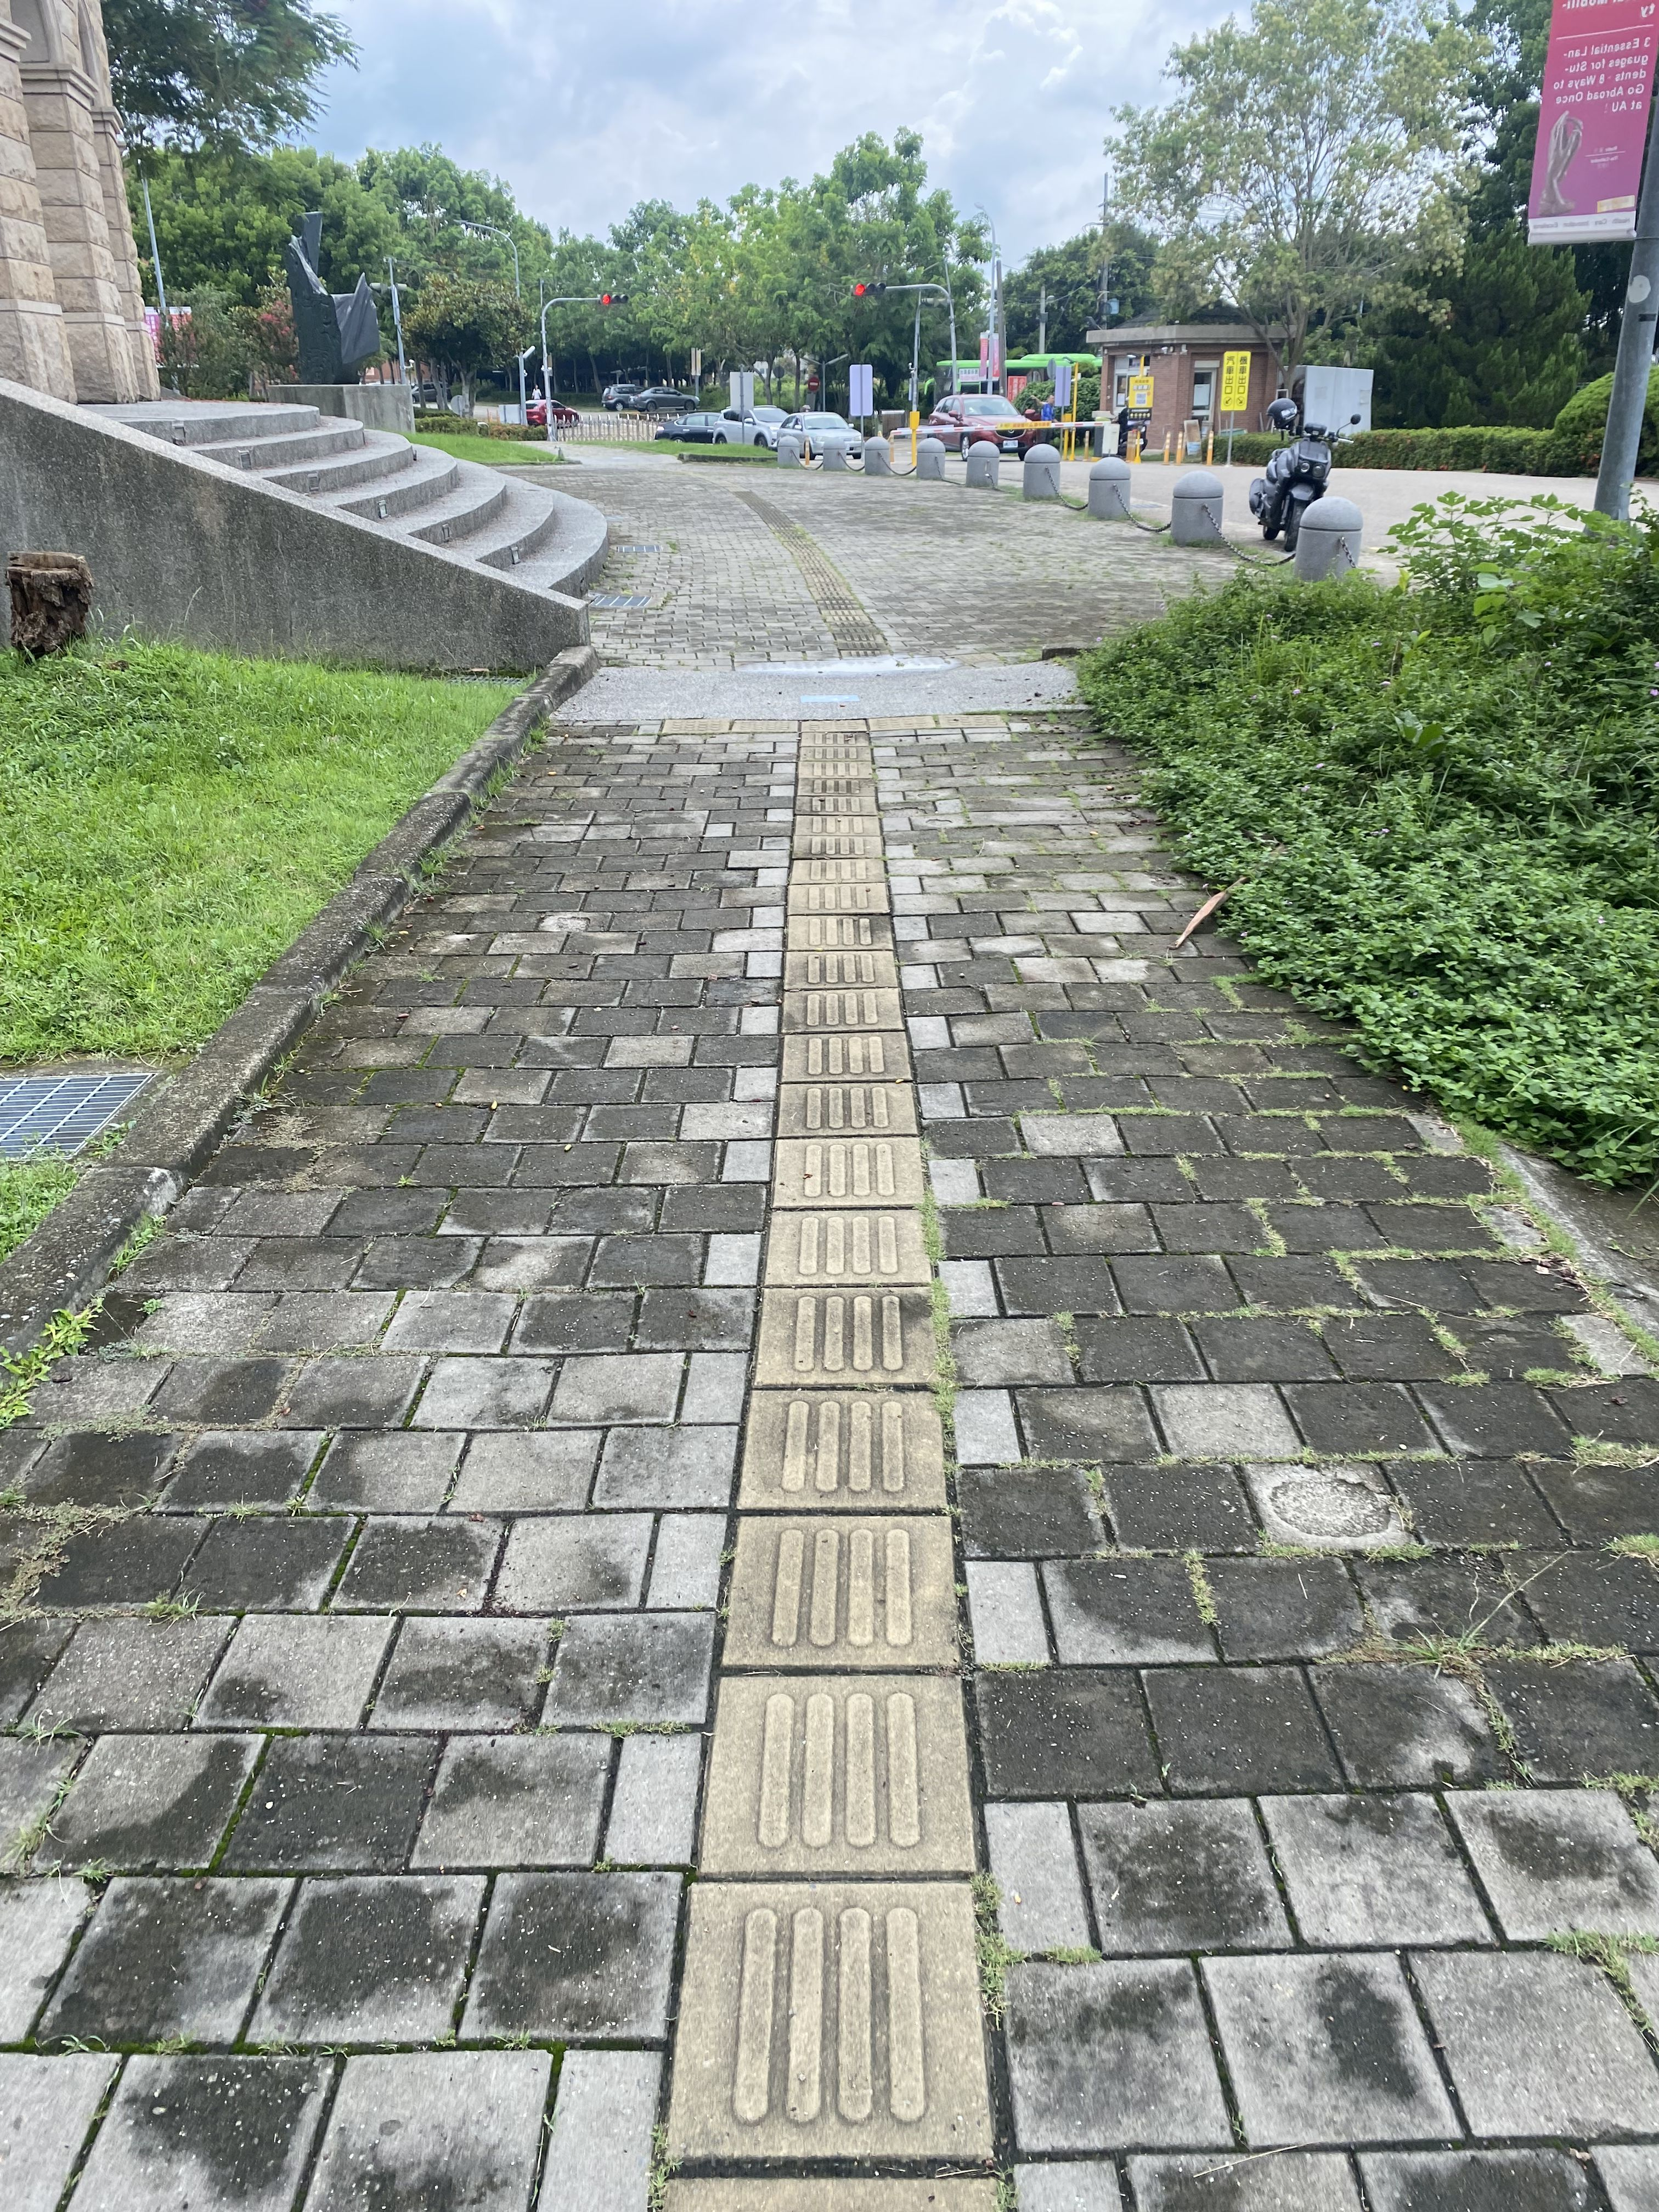0: (3, 705, 1659, 2212)
sidewalk: (521, 448, 1249, 834)
